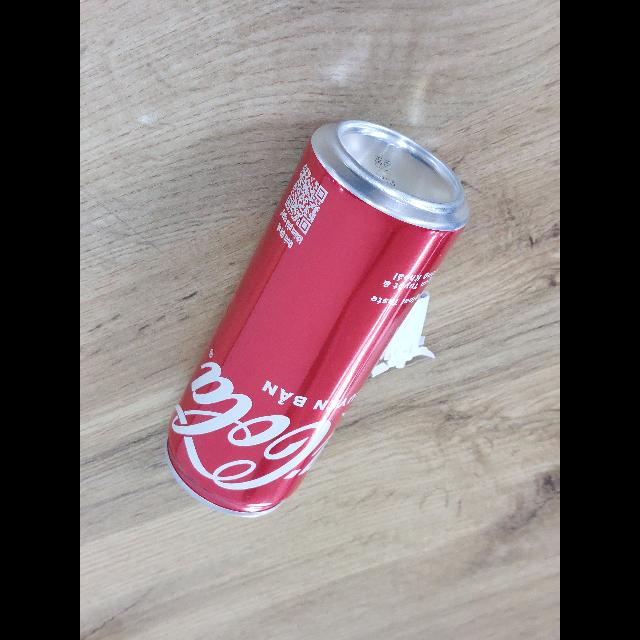coca_cola: (166, 117, 470, 517)
